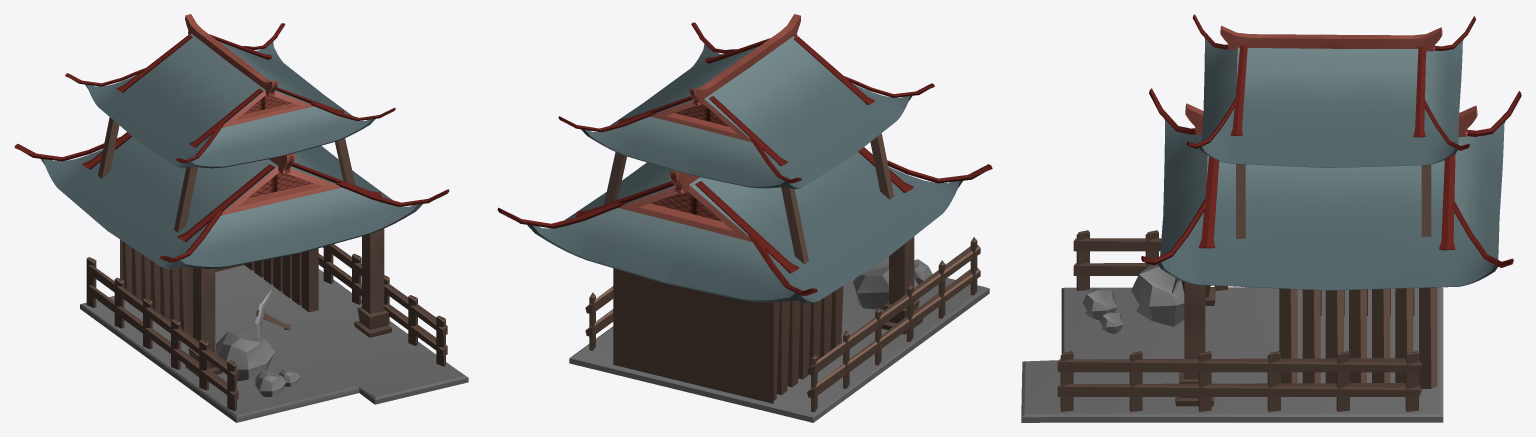
File: mine_3lvl.fbx
The picture shows the model from 3 angles, left to right: view 1: azimuth 30°, elevation 25°; view 2: azimuth 150°, elevation 25°; view 3: azimuth 270°, elevation 25°; orthographic projection. The views are drawn at different scales.
Visible parts, largest first — view 1: mine_3lvl; view 2: mine_3lvl; view 3: mine_3lvl.
Part boxes in pixels (bbox=[...]): mine_3lvl: bbox=[14, 14, 468, 422]; mine_3lvl: bbox=[497, 14, 992, 422]; mine_3lvl: bbox=[1021, 14, 1521, 422].
Size of the model in its own units: 536 by 473 by 652.
